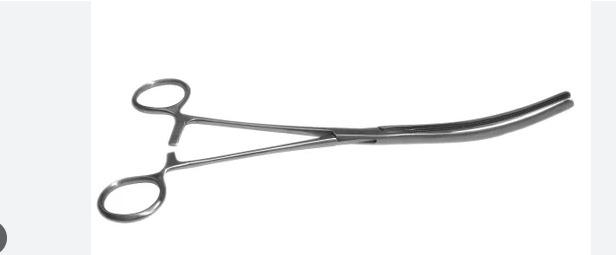Doyel Instestinal Forceps: (93, 75, 574, 224)
